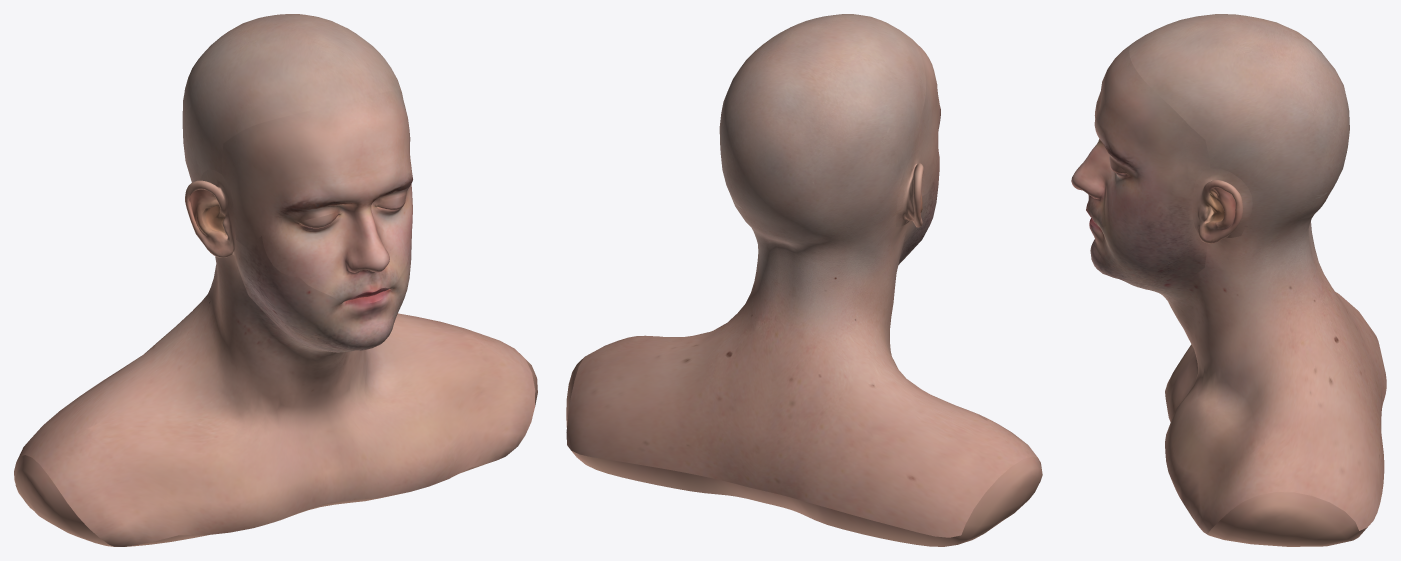
Rendered from 3DHead.FBX.
The picture shows the model from 3 angles, left to right: view 1: azimuth 30°, elevation 25°; view 2: azimuth 150°, elevation 25°; view 3: azimuth 270°, elevation 25°; orthographic projection. The views are drawn at different scales.
Visible parts, largest first — view 1: Group2; view 2: Group2; view 3: Group2.
Boxes of the visible parts, <box> form: Group2: <box>14,14,537,546</box>; Group2: <box>566,14,1042,546</box>; Group2: <box>1071,14,1386,546</box>.
Bounding box in the file's own units: 45.33 × 27.46 × 42.11.
